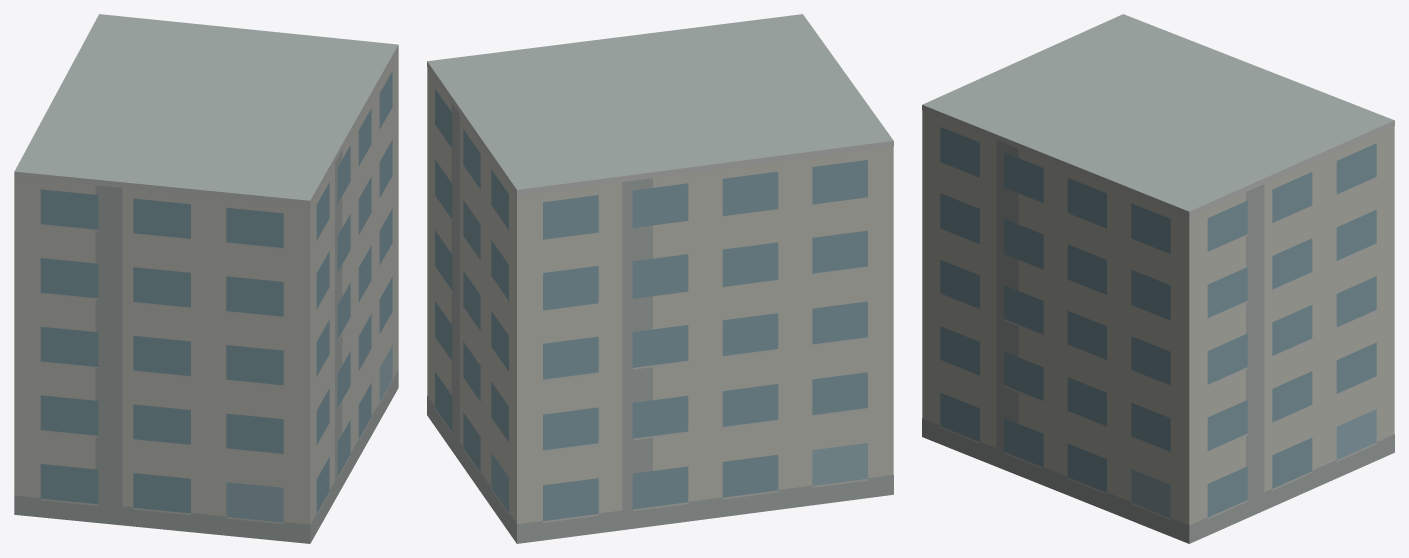
The model's file is survey-upis-32832458.glb.
3 renders of one model, left to right at view 1: azimuth 30°, elevation 25°; view 2: azimuth 150°, elevation 25°; view 3: azimuth 270°, elevation 25°, orthographic. The views are drawn at different scales.
Visible parts, largest first — view 1: survey-upis-32832458.tmp; view 2: survey-upis-32832458.tmp; view 3: survey-upis-32832458.tmp.
Boxes of the visible parts, box(x1,y1,x2,y2) form: survey-upis-32832458.tmp: box(14, 14, 398, 543); survey-upis-32832458.tmp: box(427, 14, 893, 543); survey-upis-32832458.tmp: box(922, 14, 1394, 543).
Bounding box in the file's own units: 18.76 × 14.7 × 18.96.
